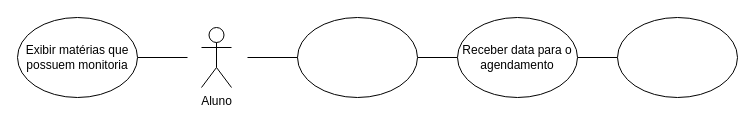
Image size: 755x126. Some labels were removed from this diagram. The shapes that lost their labels are listed below. From the top down, each one's centre as x and y in pixels, then its label:
the point at 357,57: Exibir informações sobre a matéria
the point at 677,57: Grava o agendamento
